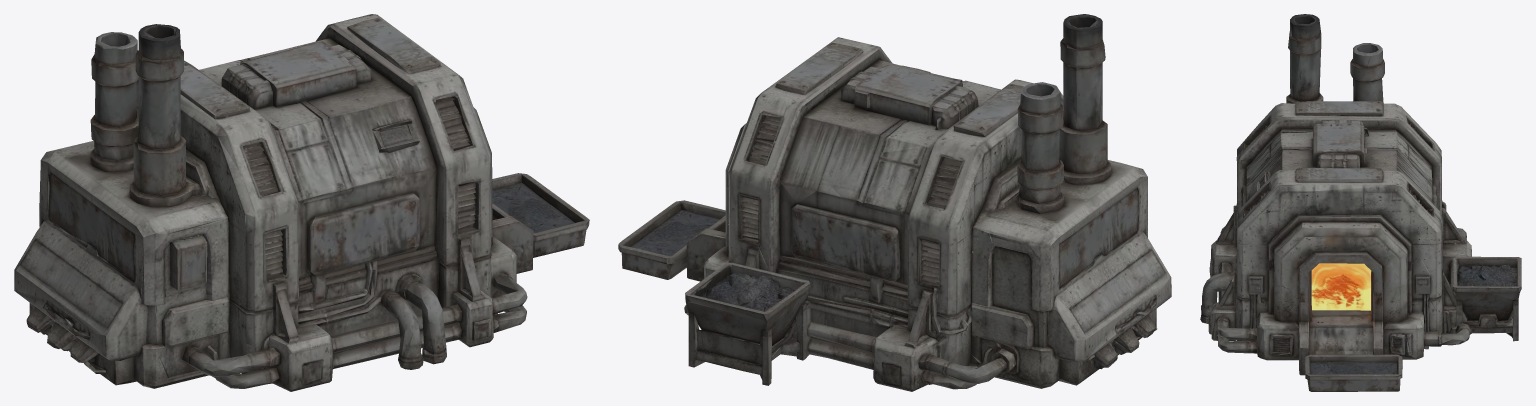
Rendered from conv.material_processor.glb.
3 views of the same model, side by side, from view 1: azimuth 30°, elevation 25°; view 2: azimuth 150°, elevation 25°; view 3: azimuth 270°, elevation 25° (orthographic). The views are drawn at different scales.
Parts seen in each view (by area): view 1: body; view 2: body; view 3: body.
Boxes of the visible parts, box(x1,y1,x2,y2) form: body: box(14, 14, 589, 391); body: box(618, 14, 1171, 391); body: box(1200, 14, 1521, 391).
Bounding box in the file's own units: 2 × 1.21 × 1.53.
Materials: 1 (1 with a texture image).
